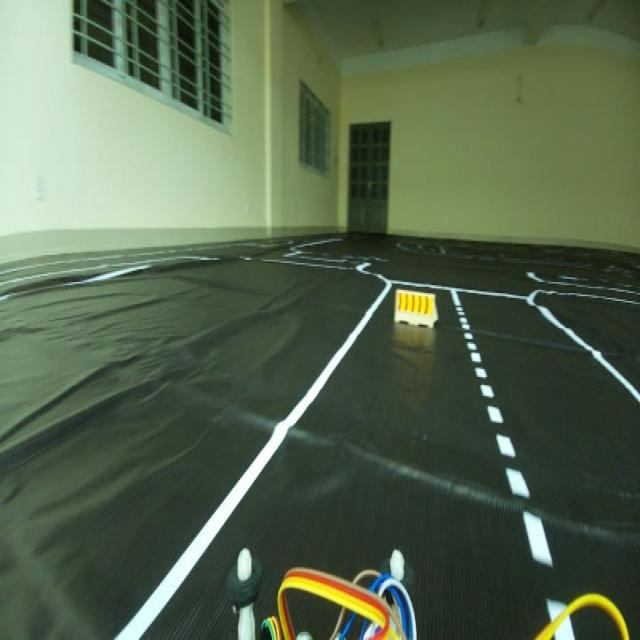roadblock: (389, 284, 443, 340)
